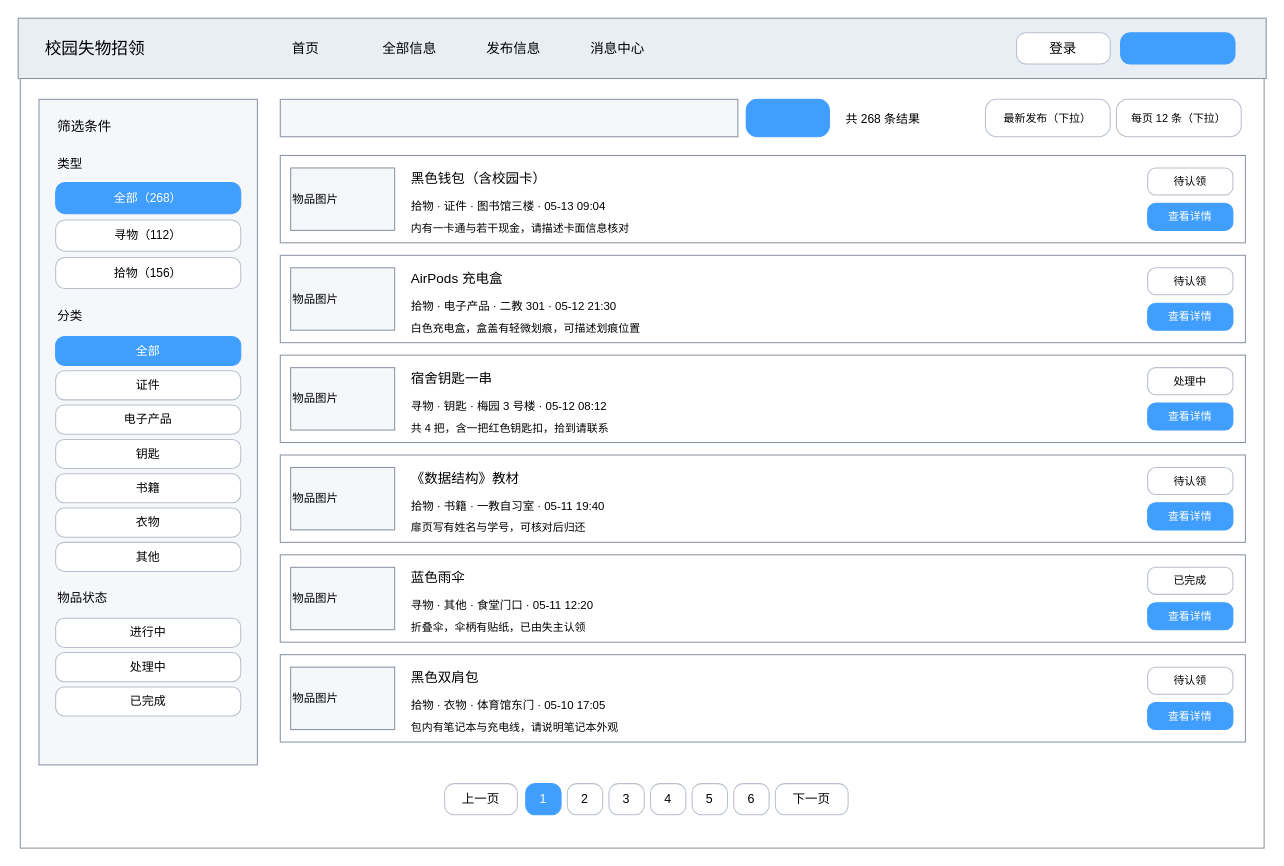
The diagram is 1284 pixels wide and 866 high, and some of its shapes have lost their labels. The shapes that lost their labels are listed below. From the top down, each one's box as (x1, y1, x2, y2) in pixels, then its label:
(1120, 32, 1235, 64): 注册
(279, 98, 738, 137): 在当前结果中搜索标题或描述…
(745, 98, 829, 137): 搜索
